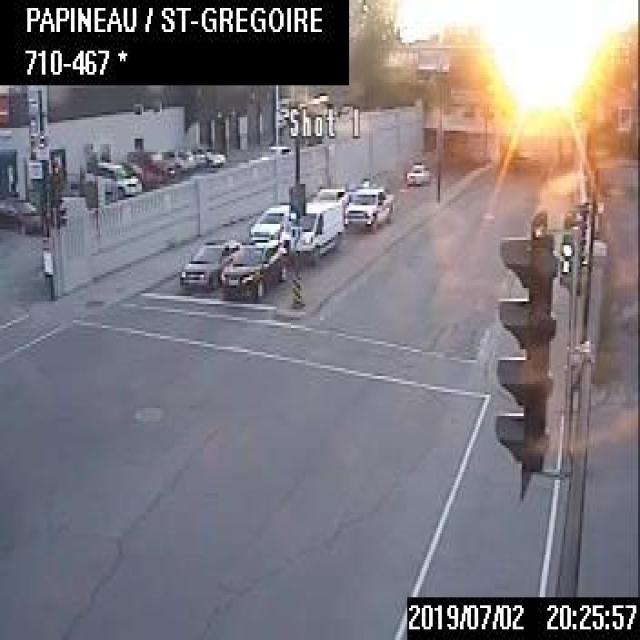vehicle: (217, 234, 289, 303), (176, 236, 239, 299), (293, 197, 343, 264), (342, 182, 392, 232), (86, 155, 140, 197), (124, 147, 174, 186), (0, 192, 45, 234), (246, 201, 292, 234), (404, 160, 430, 184)
